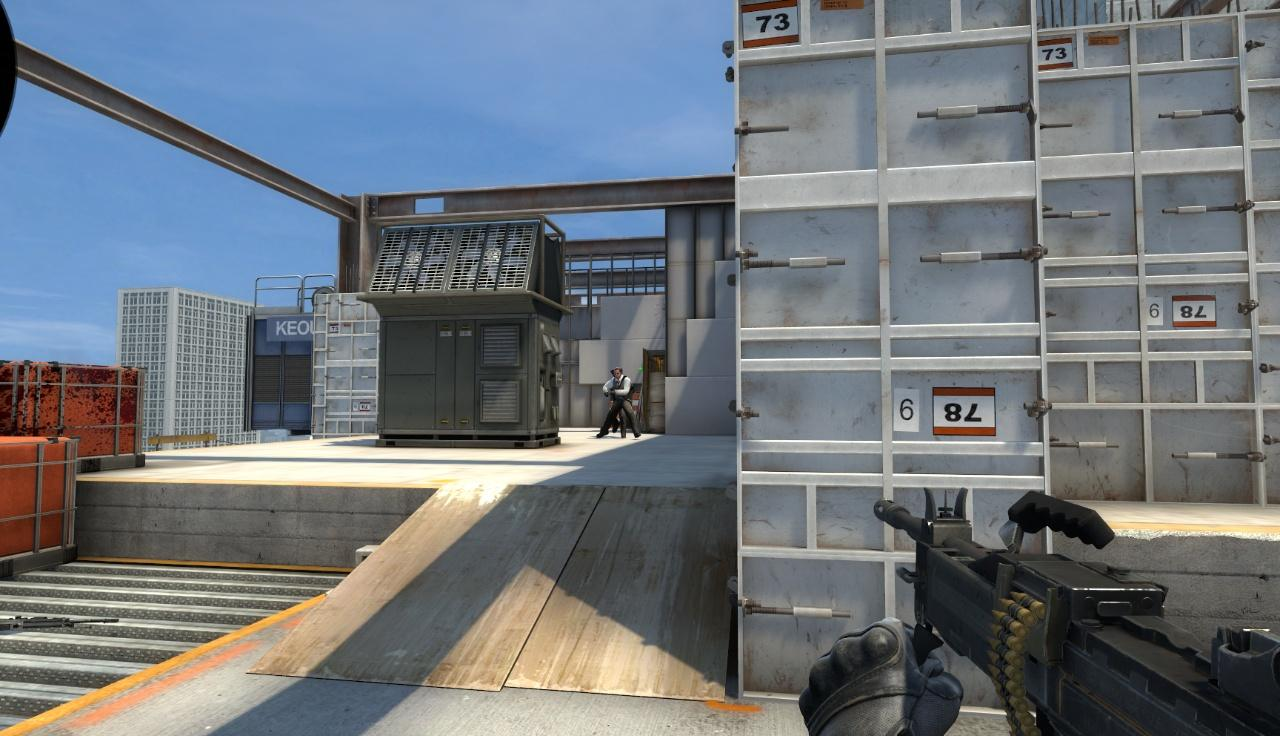rifle: (857, 479, 1280, 736)
tt: (606, 368, 632, 437)
tthead: (612, 369, 622, 379)
